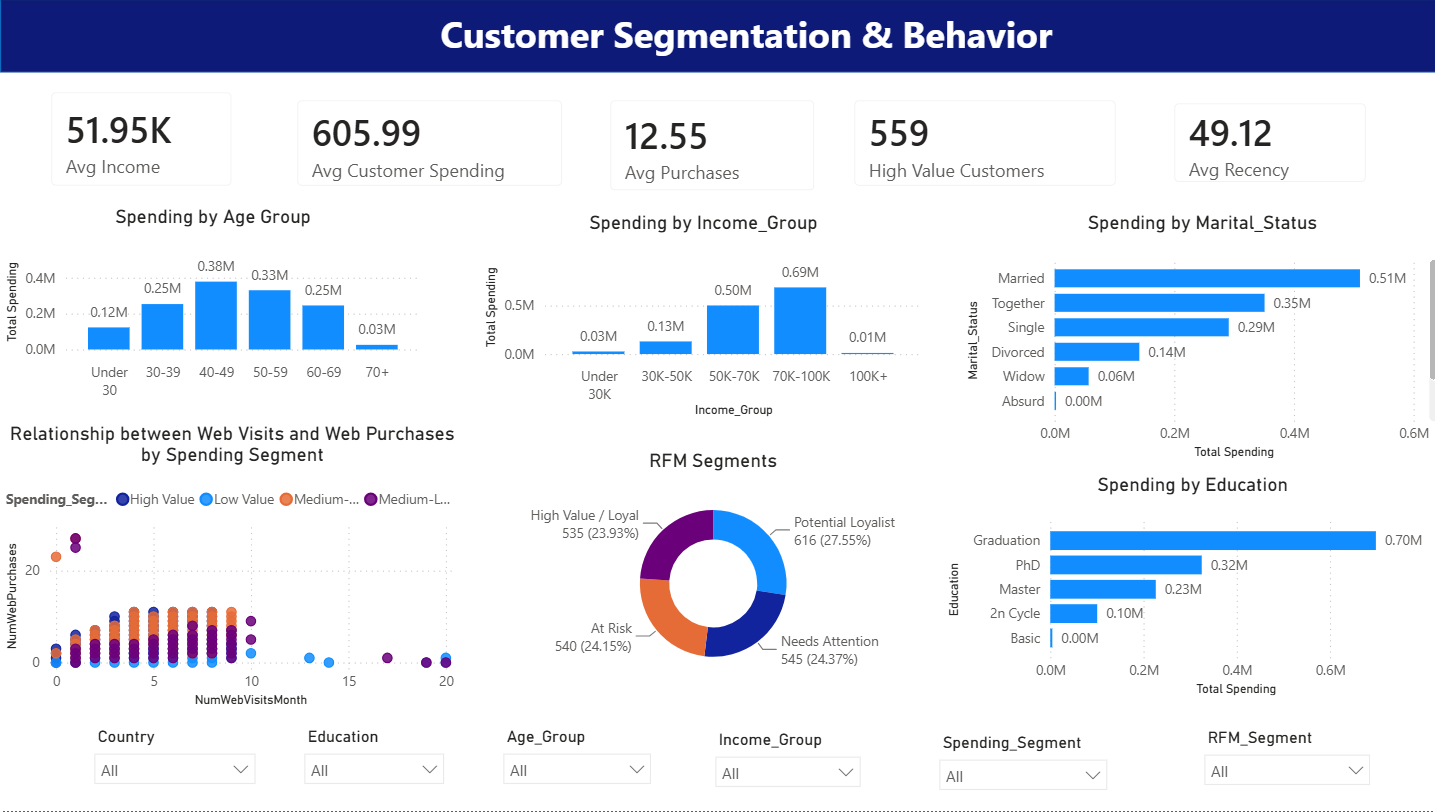

The dashboard page shown, as its layout file describes it:
{"tool":"powerbi","page":{"name":"Customer Segmentation & Behavior","canvas":[1280,720],"ordinal":1},"visuals":[{"type":"shape","box":[0,0,1280,65.4],"z":0},{"type":"cardVisual","fields":{"Data":["_Measures.Average Income"]},"box":[28,65.5,194.5,117.3],"z":1000},{"type":"cardVisual","fields":{"Data":["_Measures.Average Customer Spending"]},"box":[246.7,72.9,269.1,110.2],"z":2000},{"type":"cardVisual","fields":{"Data":["_Measures.High Value Customers"]},"box":[740,72.9,266.3,110.2],"z":3000},{"type":"cardVisual","fields":{"Data":["_Measures.Average Recency"]},"box":[1024,75.7,204.6,104.6],"z":4000},{"type":"cardVisual","fields":{"Data":["_Measures.Average Purchases"]},"box":[524.1,72.9,215.8,114.9],"z":5000},{"type":"clusteredColumnChart","title":"Spending by Age Group","fields":{"Category":["marketing_customer_enriched.Age_Group"],"Y":["_Measures.Total Spending"]},"box":[0,182.7,377.7,179.1],"z":6000},{"type":"clusteredColumnChart","title":"Spending by Income_Group","fields":{"Category":["marketing_customer_enriched.Income_Group"],"Y":["_Measures.Total Spending"]},"box":[425.1,187.8,398,186.9],"z":7000},{"type":"clusteredBarChart","title":"Spending by Education","fields":{"Category":["marketing_customer_enriched.Education"],"Y":["_Measures.Total Spending"]},"box":[835.3,420.4,444.7,201.8],"z":8000},{"type":"clusteredBarChart","title":"Spending by Marital_Status","fields":{"Category":["marketing_customer_enriched.Marital_Status"],"Y":["_Measures.Total Spending"]},"box":[852.1,188,428.3,224.3],"z":9000},{"type":"donutChart","title":"Customer RFM Segments","fields":{"Category":["marketing_customer_enriched.RFM_Segment"],"Y":["CountNonNull(marketing_customer_enriched.ID)"]},"box":[455,398.9,355,208.4],"z":10000},{"type":"scatterChart","title":"Relationship between Web Visits and Web Purchases by Spending Segment","fields":{"Series":["marketing_customer_enriched.Spending_Segment"],"X":["marketing_customer_enriched.NumWebVisitsMonth"],"Y":["marketing_customer_enriched.NumWebPurchases"]},"box":[0,374.7,412,256.9],"z":11000},{"type":"textbox","box":[236.4,3.7,850.3,56.6],"z":12000},{"type":"slicer","fields":{"Values":["marketing_customer_enriched.RFM_Segment"]},"box":[1057.4,642.1,167.2,66],"z":13000},{"type":"slicer","fields":{"Values":["marketing_customer_enriched.Country"]},"box":[73.8,640.9,162.6,60.7],"z":14000},{"type":"slicer","fields":{"Values":["marketing_customer_enriched.Education"]},"box":[259.7,640.9,143.9,69.1],"z":15000},{"type":"slicer","fields":{"Values":["marketing_customer_enriched.Income_Group"]},"box":[624.1,643.7,148.6,66.3],"z":16000},{"type":"slicer","fields":{"Values":["marketing_customer_enriched.Age_Group"]},"box":[436.3,640.9,151.4,71.9],"z":17000},{"type":"slicer","fields":{"Values":["marketing_customer_enriched.Spending_Segment"]},"box":[823.1,646.5,169.1,57],"z":18000}]}

Visuals, with their boxes in screenshot pixels (x1, y1, x2, y2), scaled from the page's 1280x720 canvas onto the 1435x812 screenshot:
shape: bbox=(0, 0, 1434, 74)
cardVisual - _Measures.Average Income: bbox=(31, 74, 249, 206)
cardVisual - _Measures.Average Customer Spending: bbox=(277, 82, 578, 206)
cardVisual - _Measures.High Value Customers: bbox=(830, 82, 1128, 206)
cardVisual - _Measures.Average Recency: bbox=(1148, 85, 1377, 203)
cardVisual - _Measures.Average Purchases: bbox=(588, 82, 829, 212)
"Spending by Age Group" clusteredColumnChart: bbox=(0, 206, 423, 408)
"Spending by Income_Group" clusteredColumnChart: bbox=(477, 212, 923, 423)
"Spending by Education" clusteredBarChart: bbox=(936, 474, 1434, 702)
"Spending by Marital_Status" clusteredBarChart: bbox=(955, 212, 1434, 465)
"Customer RFM Segments" donutChart: bbox=(510, 450, 908, 685)
"Relationship between Web Visits and Web Purchases by Spending Segment" scatterChart: bbox=(0, 423, 462, 712)
textbox: bbox=(265, 4, 1218, 68)
slicer - marketing_customer_enriched.RFM_Segment: bbox=(1185, 724, 1373, 799)
slicer - marketing_customer_enriched.Country: bbox=(83, 723, 265, 791)
slicer - marketing_customer_enriched.Education: bbox=(291, 723, 452, 801)
slicer - marketing_customer_enriched.Income_Group: bbox=(700, 726, 866, 801)
slicer - marketing_customer_enriched.Age_Group: bbox=(489, 723, 659, 804)
slicer - marketing_customer_enriched.Spending_Segment: bbox=(923, 729, 1112, 793)
